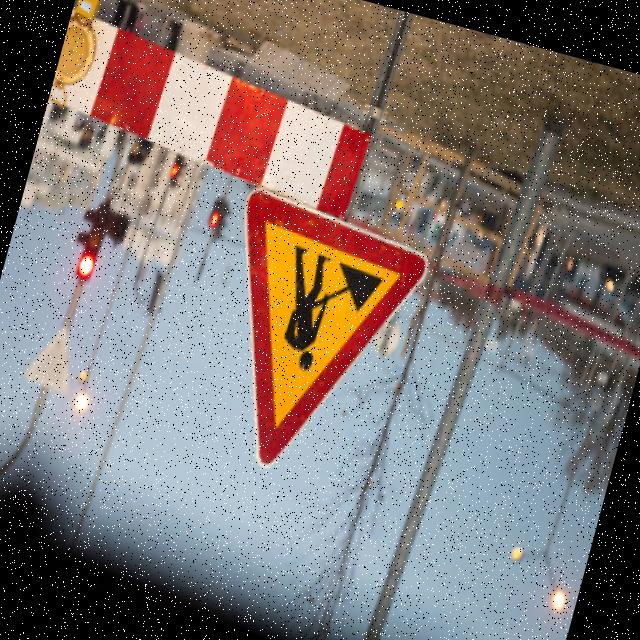road_work: (184, 182, 438, 494)
